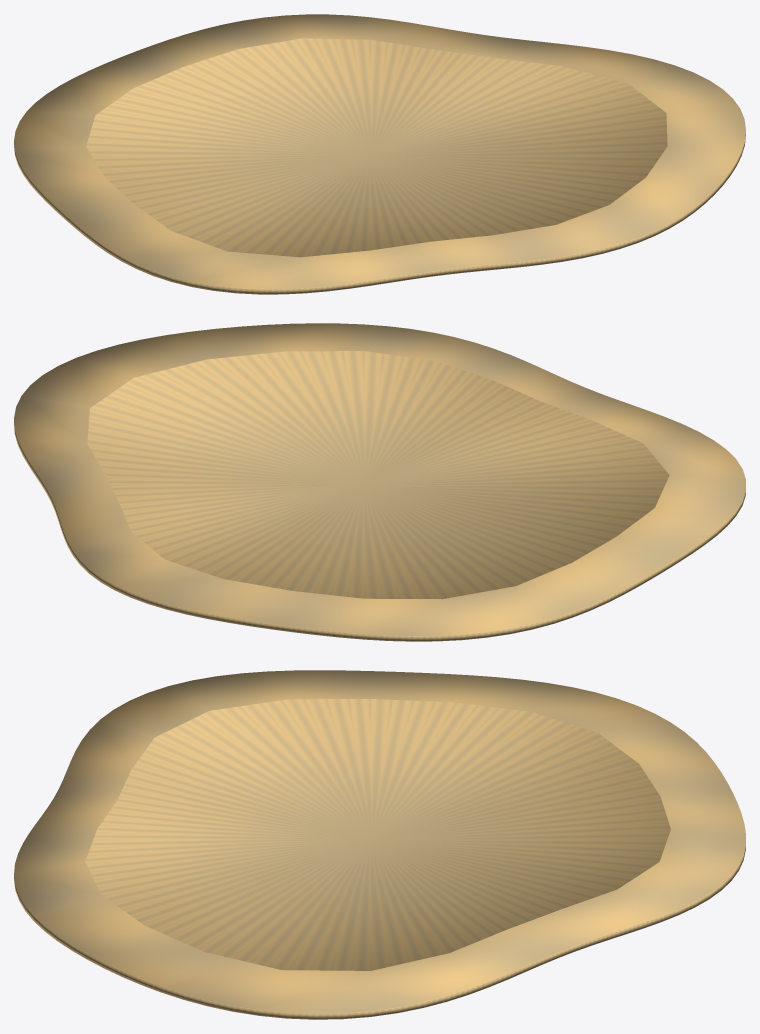
File: ISL-L_LOD2_Beach.fbx
The picture shows the model from 3 angles, top to bottom: view 1: azimuth 30°, elevation 25°; view 2: azimuth 150°, elevation 25°; view 3: azimuth 270°, elevation 25°; orthographic projection. The views are drawn at different scales.
Parts seen in each view (by area): view 1: ISL-L_LOD2_Beach; view 2: ISL-L_LOD2_Beach; view 3: ISL-L_LOD2_Beach.
Boxes of the visible parts, box(x1,y1,x2,y2) form: ISL-L_LOD2_Beach: box(14, 14, 745, 294); ISL-L_LOD2_Beach: box(14, 323, 745, 641); ISL-L_LOD2_Beach: box(14, 670, 745, 1019).
Bounding box in the file's own units: 188 × 170 × 2.7.
